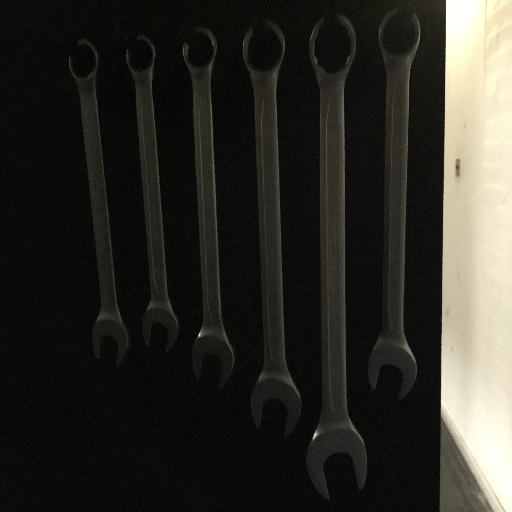bottom: (305, 424, 368, 501), (251, 372, 301, 439), (367, 339, 418, 400), (189, 328, 236, 388), (89, 310, 131, 368), (140, 303, 182, 355)
top: (306, 10, 358, 82), (240, 19, 287, 82), (376, 7, 423, 67), (63, 37, 104, 87), (180, 25, 219, 77), (123, 33, 159, 82)
